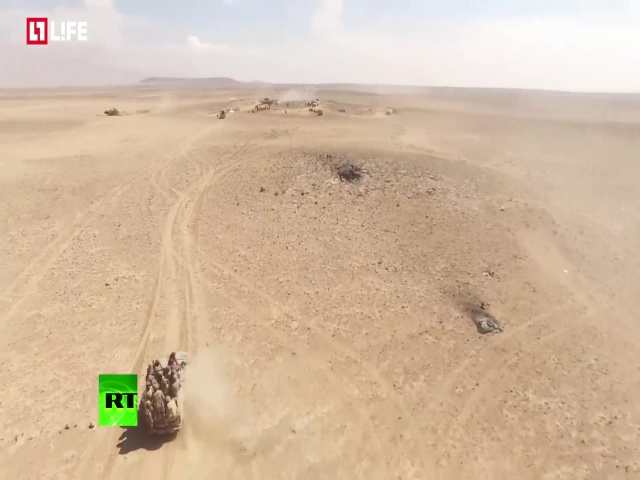vehicle: (137, 351, 189, 439)
